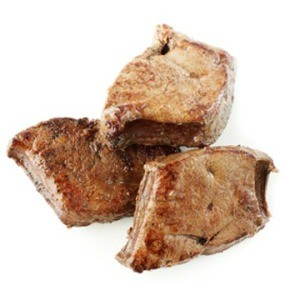liver_brain food: (134, 174, 235, 268), (113, 41, 224, 126), (32, 132, 94, 225)
